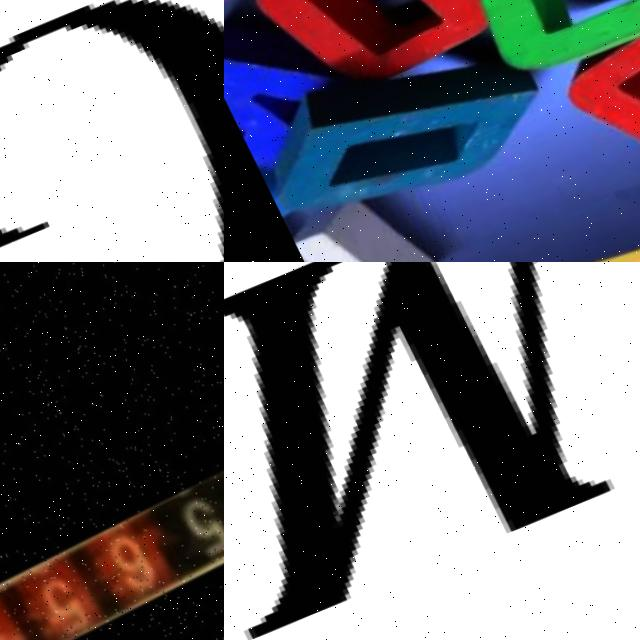5: (23, 568, 92, 640), (166, 490, 224, 566)
6: (94, 527, 160, 601)
C: (424, 0, 640, 96)
D: (227, 30, 557, 249)
G: (0, 0, 224, 262)
M: (224, 262, 640, 639)
O: (226, 0, 516, 114)
U: (531, 0, 640, 194)
